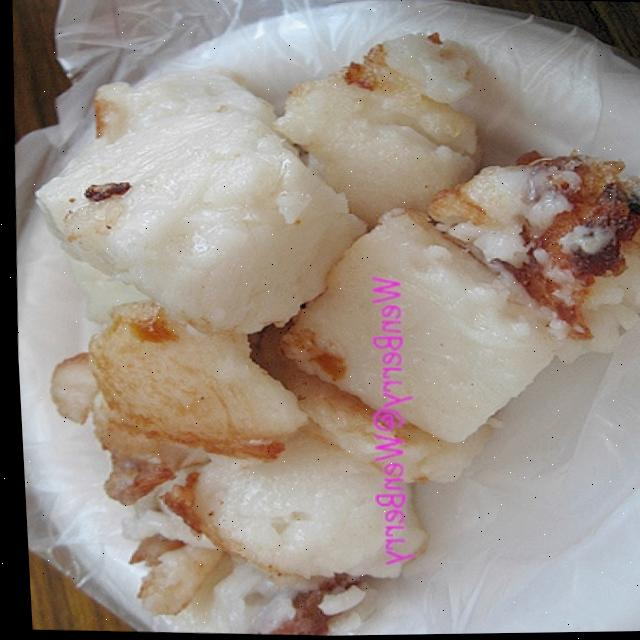蛋糕甜品: (1, 6, 640, 640)
